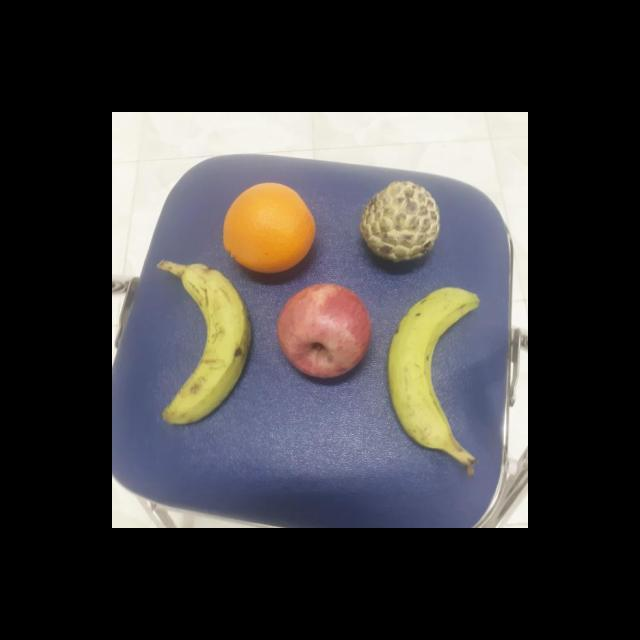Sakya fruit: (358, 179, 442, 264)
apple: (276, 282, 374, 378)
banana: (386, 285, 484, 453), (156, 261, 254, 428)
orange: (222, 180, 318, 274)
